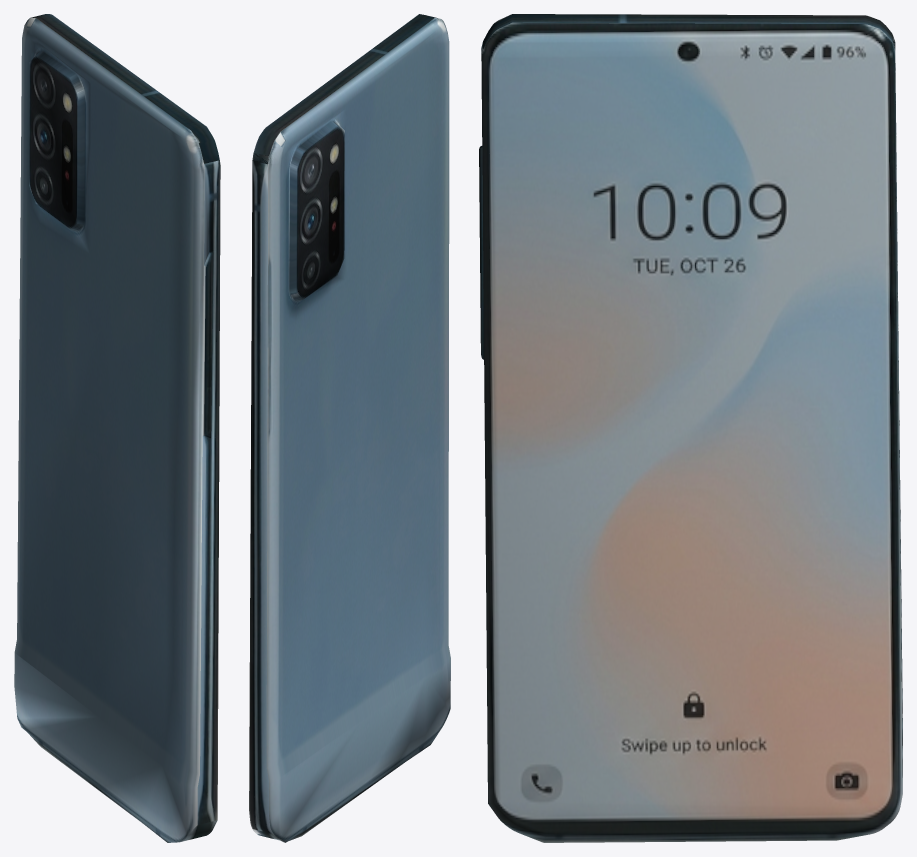
Rendered from generic_smartphone_game-ready.glb.
3 renders of one model, left to right at view 1: azimuth 30°, elevation 25°; view 2: azimuth 150°, elevation 25°; view 3: azimuth 270°, elevation 25°, orthographic. The views are drawn at different scales.
Parts seen in each view (by area): view 1: phone; view 2: phone; view 3: phone.
Part boxes in pixels (x1=…): phone: x1=14, y1=14, x2=220, y2=842; phone: x1=249, y1=14, x2=450, y2=842; phone: x1=479, y1=14, x2=902, y2=842.
Size of the model in its own units: 0.1336 by 3.01 by 1.41.
2 materials, 2 textured.
